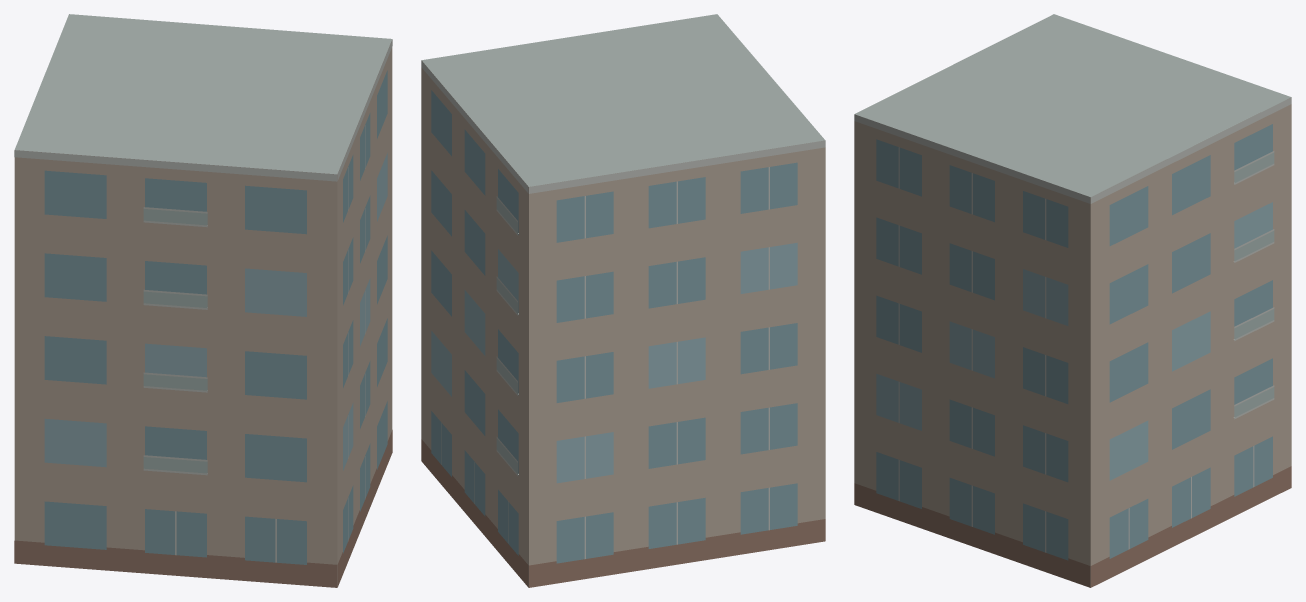
File: survey-upis-32716195.glb
3 renders of one model, left to right at view 1: azimuth 30°, elevation 25°; view 2: azimuth 150°, elevation 25°; view 3: azimuth 270°, elevation 25°, orthographic. The views are drawn at different scales.
Parts seen in each view (by area): view 1: survey-upis-32716195.tmp; view 2: survey-upis-32716195.tmp; view 3: survey-upis-32716195.tmp.
Boxes of the visible parts, x1,y1,x2,y2 form: survey-upis-32716195.tmp: [14, 14, 392, 587]; survey-upis-32716195.tmp: [421, 14, 825, 587]; survey-upis-32716195.tmp: [854, 14, 1291, 587].
Bounding box in the file's own units: 14.09 × 14 × 14.21.
